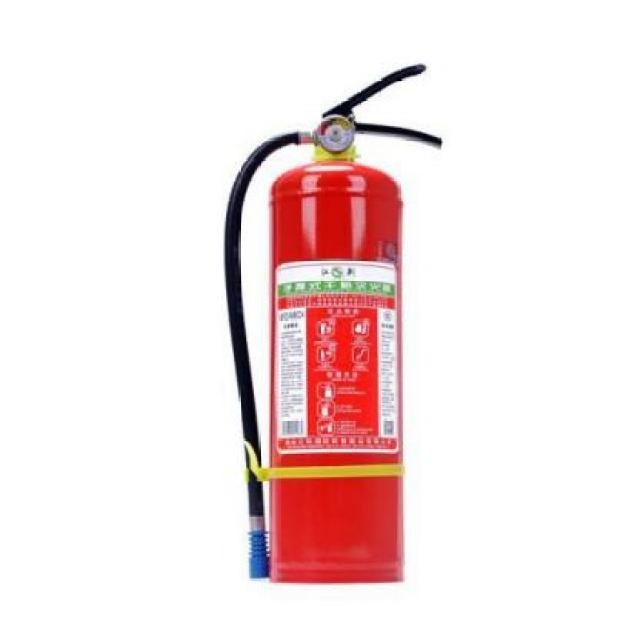fire extinguisher: (223, 64, 443, 585)
